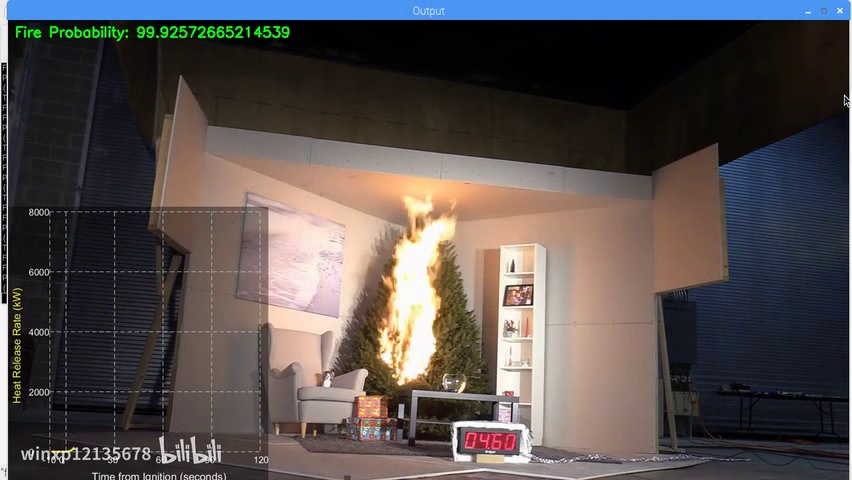fire: (377, 193, 458, 390)
